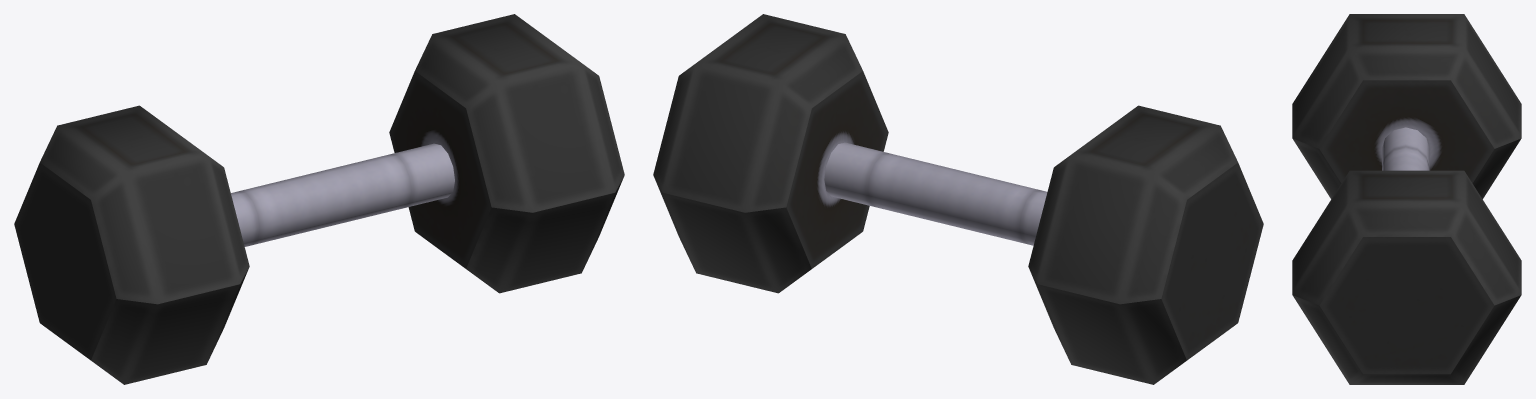
The model's file is MSH_DumbBell_02.FBX.
3 renders of one model, left to right at view 1: azimuth 30°, elevation 25°; view 2: azimuth 150°, elevation 25°; view 3: azimuth 270°, elevation 25°, orthographic. The views are drawn at different scales.
Visible parts, largest first — view 1: MSH_DumbBell_02; view 2: MSH_DumbBell_02; view 3: MSH_DumbBell_02.
Part boxes in pixels (left/top/right/bottom): MSH_DumbBell_02: left=14, top=14, right=624, bottom=384; MSH_DumbBell_02: left=653, top=14, right=1263, bottom=384; MSH_DumbBell_02: left=1292, top=14, right=1521, bottom=384.
Size of what is drawn, in the model's own units: 32.94 by 15.04 by 13.03.
